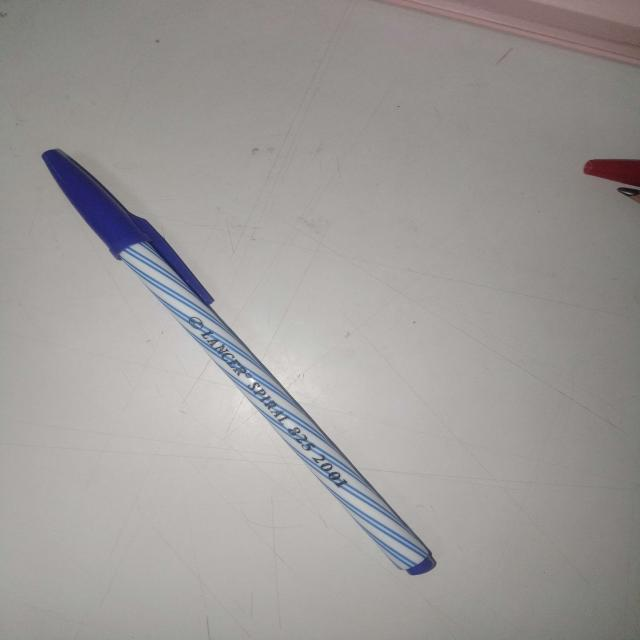pen_pencil: (2, 115, 478, 640)
